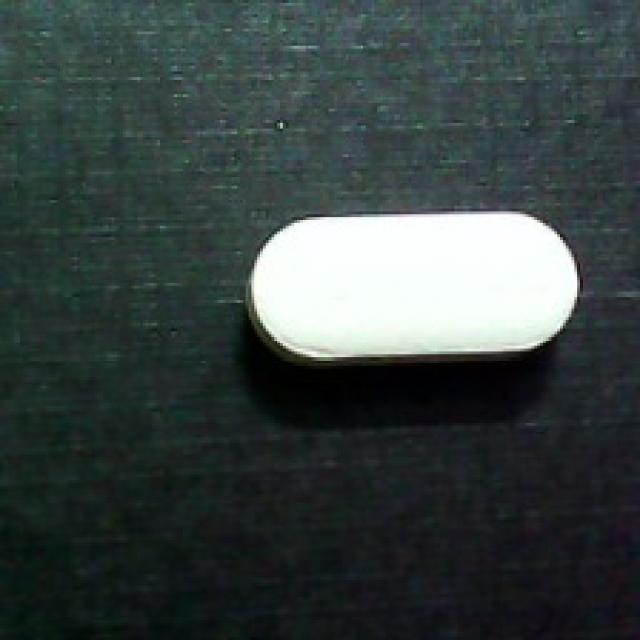no-defect: (243, 203, 589, 371)
